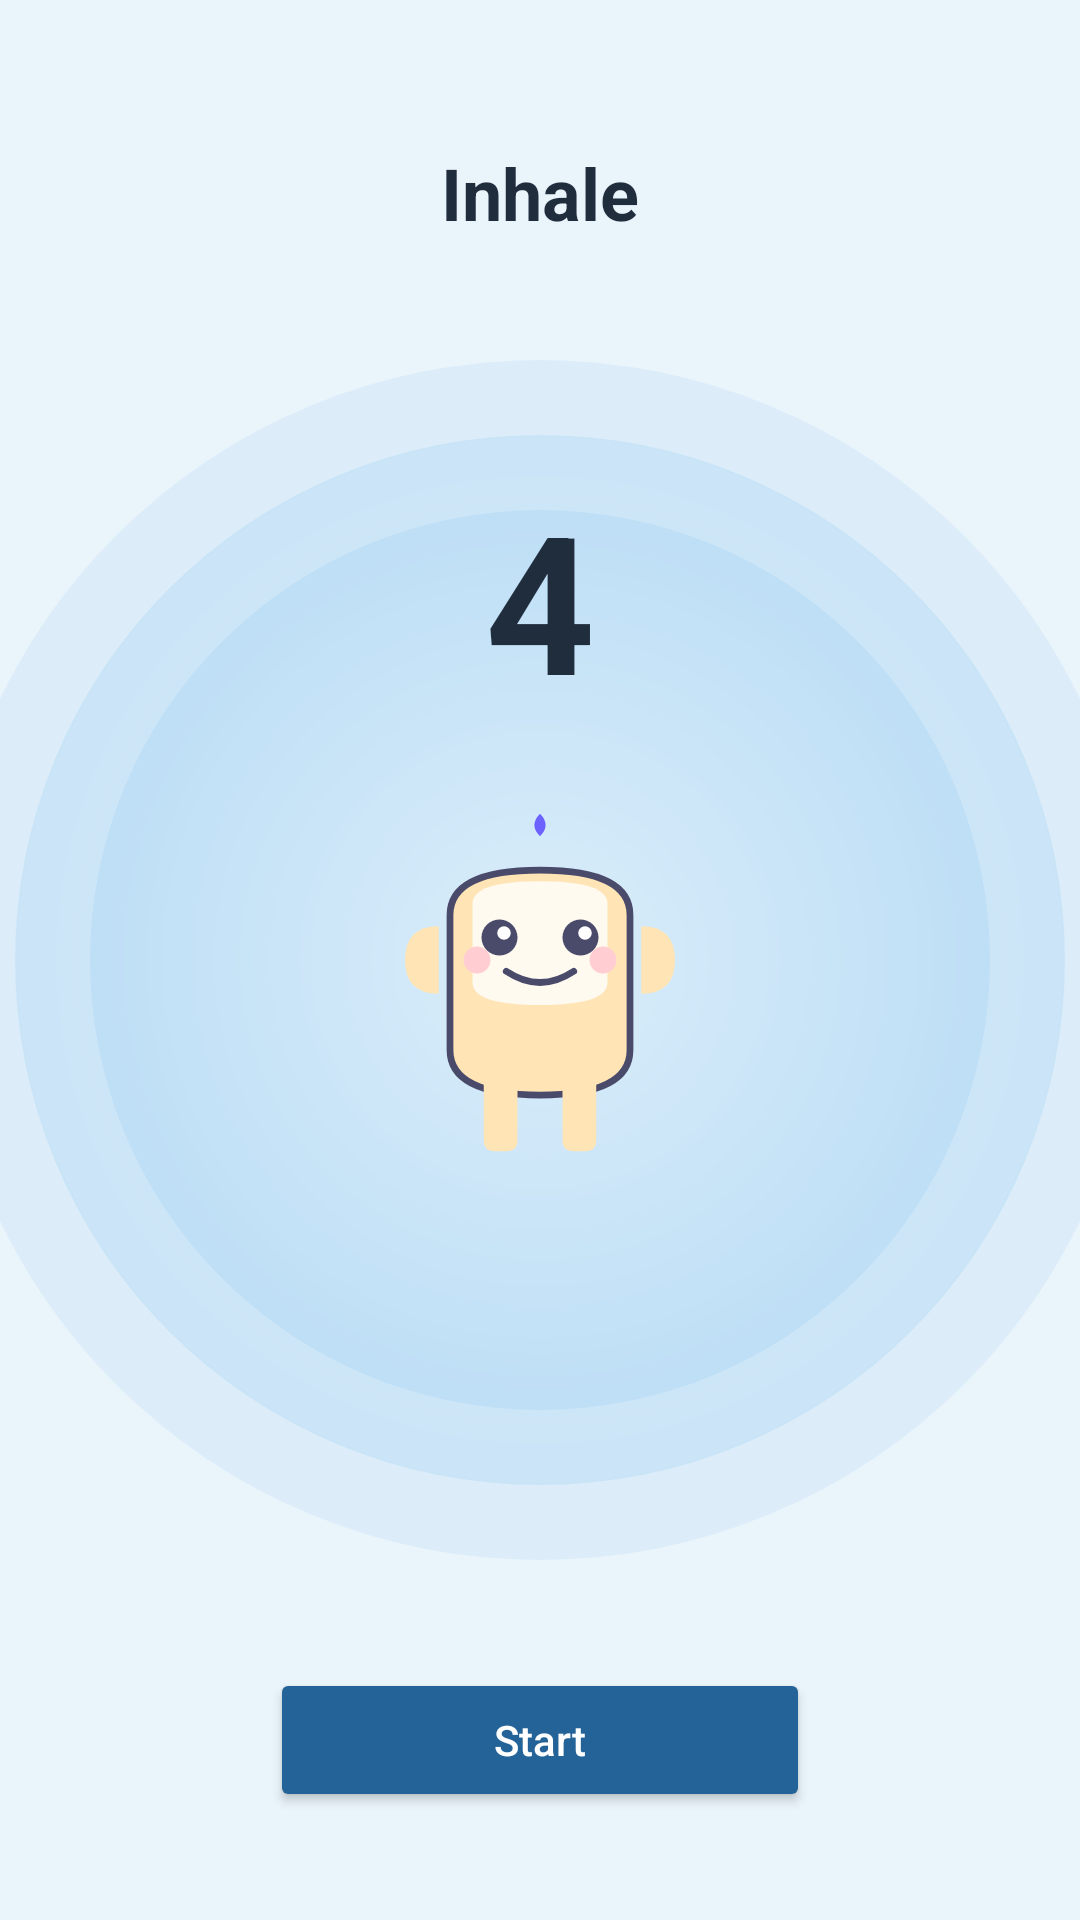

Icon click points for this 1080x1920 phone screenshot, format point (x, y):
cuby idle: point (540, 982)
